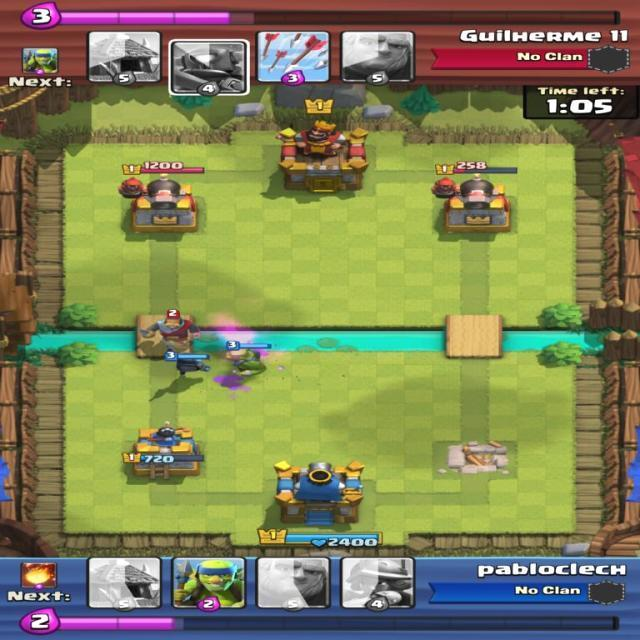ECannoneerTower: (432, 168, 516, 231), (119, 176, 197, 232)
EKingTower: (278, 120, 367, 191)
EKnight: (139, 309, 197, 345)
OBrawler: (225, 340, 263, 377)
OMiniPekka: (163, 353, 209, 375)
OwnKingTower: (274, 462, 363, 525)
OwnPrincessTower: (123, 423, 202, 478)
TowerDown: (433, 443, 514, 475)
